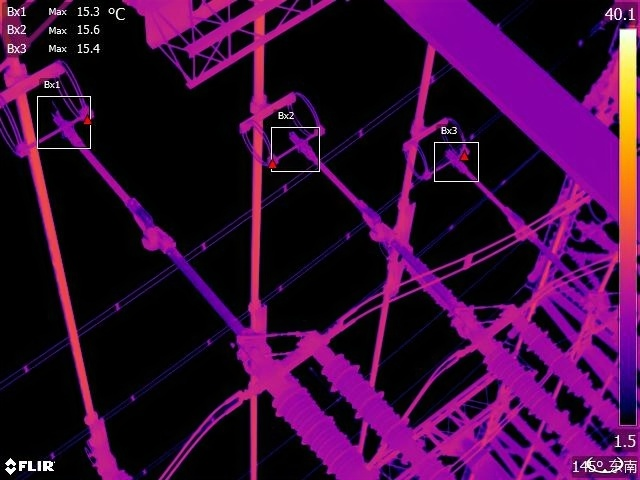post insulator: (455, 309, 604, 472), (323, 352, 457, 480), (521, 320, 619, 435), (266, 380, 374, 480)
switch: (67, 111, 270, 355), (293, 135, 470, 320), (454, 146, 587, 292)
